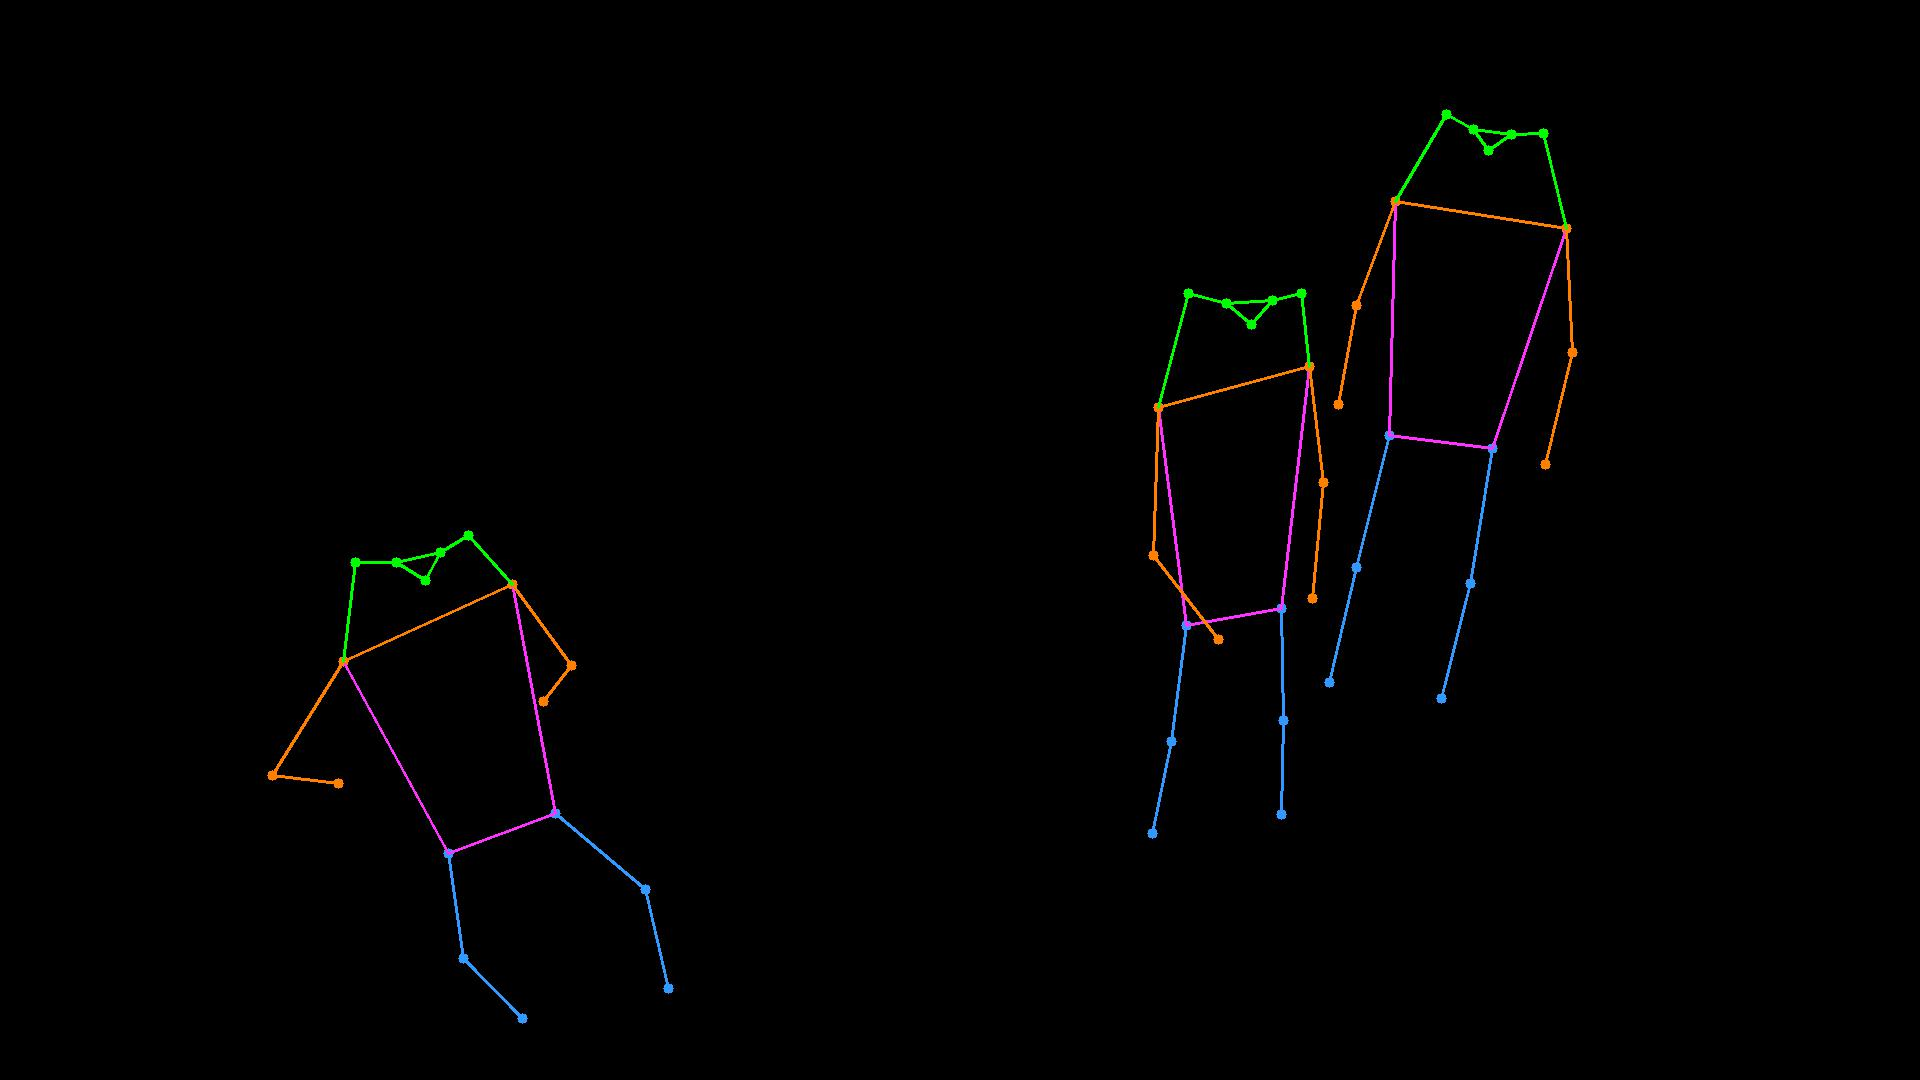normal: (1063, 83, 1625, 899), (190, 497, 715, 1056)
